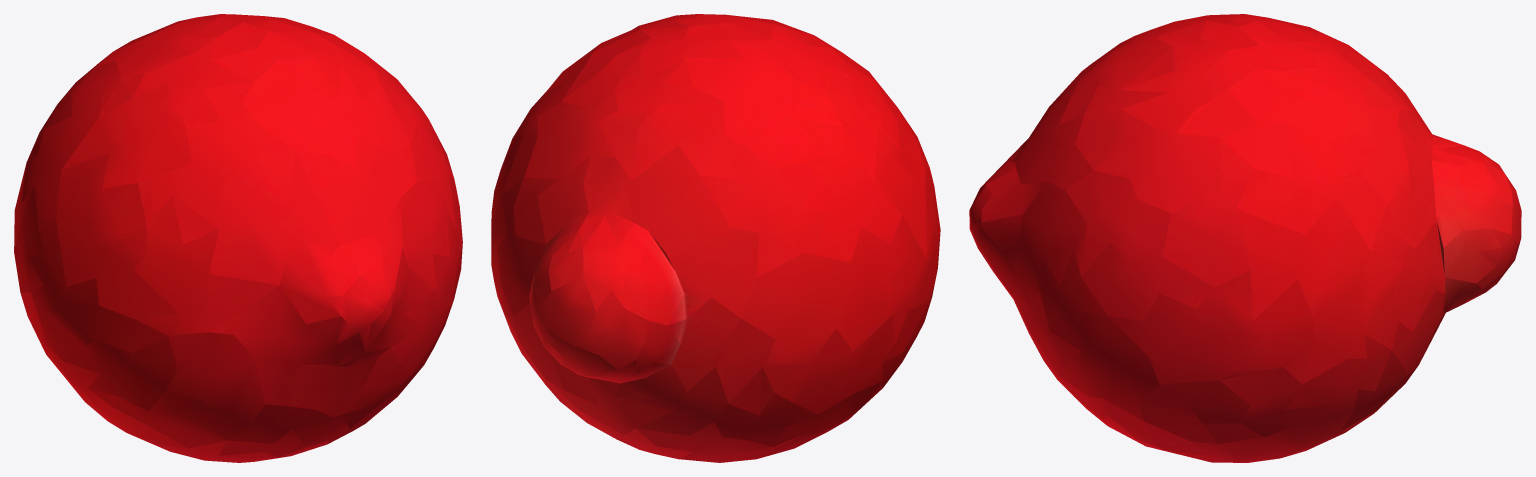
The model's file is clown_nose.glb.
The picture shows the model from 3 angles, left to right: view 1: azimuth 30°, elevation 25°; view 2: azimuth 150°, elevation 25°; view 3: azimuth 270°, elevation 25°; orthographic projection.
Bounding box in the file's own units: 1.54 × 1.54 × 1.89.
1 material, 1 textured.
